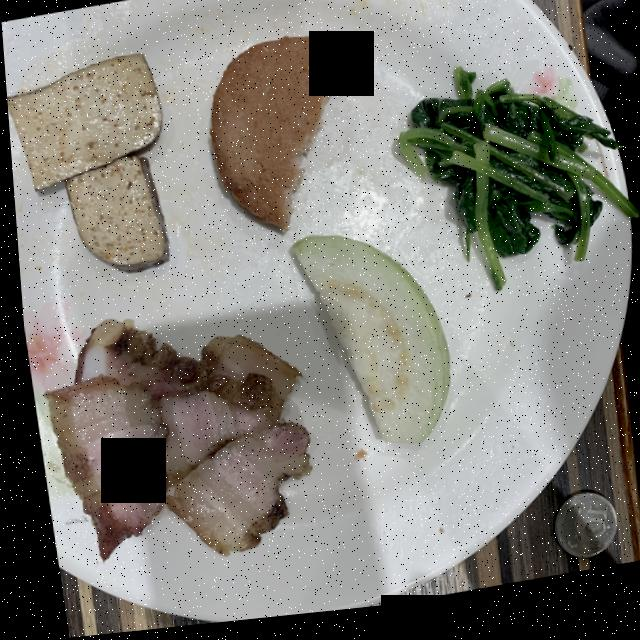Spam: (207, 42, 355, 236)
coin: (545, 501, 608, 569)
firm tofu: (6, 56, 165, 274)
grilled pork: (38, 320, 303, 559)
guava -sliced-: (288, 241, 444, 452)
mustard greens: (395, 76, 634, 300)
